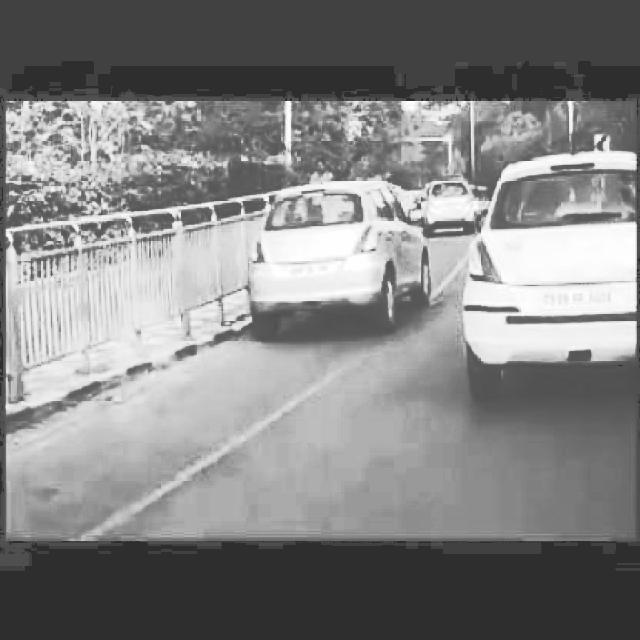Car: (457, 146, 638, 409), (234, 158, 419, 348), (418, 164, 480, 236)
